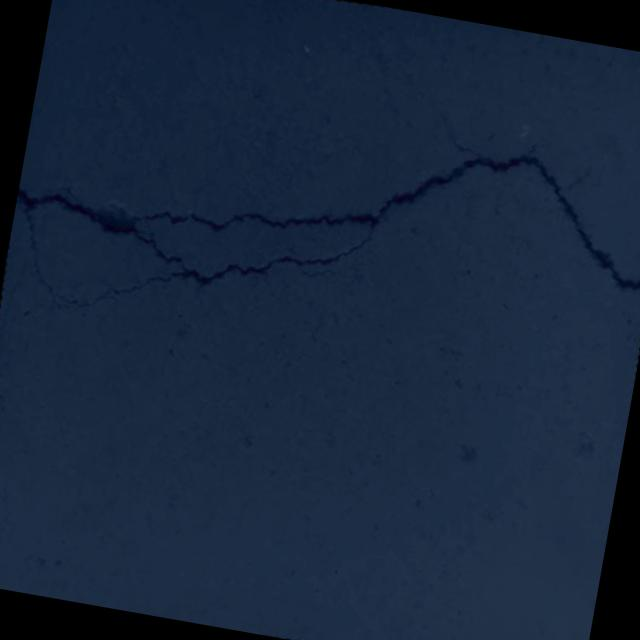crack: (0, 0, 640, 481), (578, 42, 623, 100), (0, 494, 14, 588), (0, 391, 9, 486)
